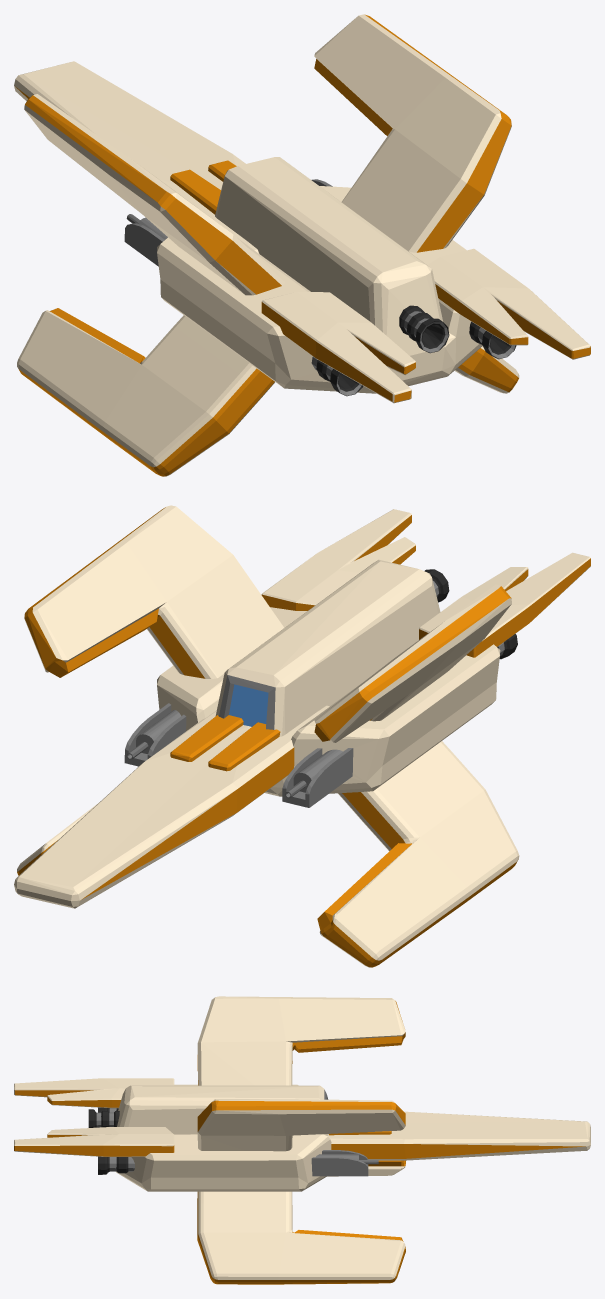
The model's file is Spaceship_03.fbx.
3 views of the same model, one above another, from view 1: azimuth 30°, elevation 25°; view 2: azimuth 150°, elevation 25°; view 3: azimuth 270°, elevation 25° (orthographic). The views are drawn at different scales.
Visible parts, largest first — view 1: Spaceship_03_detail_05, Spaceship_03_detail_01, Spaceship_03_detail_03, Spaceship_03_detail_06, Spaceship_03_detail_02, Spaceship_03_Engines, Spaceship_03_detail_04, Spaceship_03_Guns; view 2: Spaceship_03_detail_05, Spaceship_03_detail_01, Spaceship_03_detail_03, Spaceship_03_detail_02, Spaceship_03_detail_06, Spaceship_03_Guns, Spaceship_03_detail_04, Spaceship_03_Engines; view 3: Spaceship_03_detail_05, Spaceship_03_detail_03, Spaceship_03_detail_01, Spaceship_03_detail_02, Spaceship_03_detail_06, Spaceship_03_Guns, Spaceship_03_Engines.
Boxes of the visible parts, box(x1,y1,x2,y2) form: Spaceship_03_detail_05: box(24, 14, 511, 295); Spaceship_03_detail_01: box(157, 157, 482, 393); Spaceship_03_detail_03: box(17, 308, 519, 476); Spaceship_03_detail_06: box(261, 248, 590, 403); Spaceship_03_detail_02: box(14, 61, 259, 253); Spaceship_03_Engines: box(311, 305, 516, 396); Spaceship_03_detail_04: box(170, 160, 236, 214); Spaceship_03_Guns: box(124, 179, 332, 266); Spaceship_03_detail_05: box(24, 505, 511, 742); Spaceship_03_detail_01: box(157, 559, 500, 796); Spaceship_03_detail_03: box(17, 741, 519, 967); Spaceship_03_detail_02: box(14, 705, 329, 908); Spaceship_03_detail_06: box(261, 509, 590, 657); Spaceship_03_Guns: box(124, 703, 353, 807); Spaceship_03_detail_04: box(170, 715, 280, 771); Spaceship_03_Engines: box(424, 569, 517, 659); Spaceship_03_detail_05: box(197, 996, 405, 1151); Spaceship_03_detail_03: box(197, 1160, 405, 1284); Spaceship_03_detail_01: box(116, 1084, 331, 1191); Spaceship_03_detail_02: box(327, 1111, 590, 1160); Spaceship_03_detail_06: box(14, 1078, 174, 1156); Spaceship_03_Guns: box(311, 1150, 378, 1176); Spaceship_03_Engines: box(88, 1107, 134, 1174).
Size of the model in its own units: 289 by 213 by 612.
